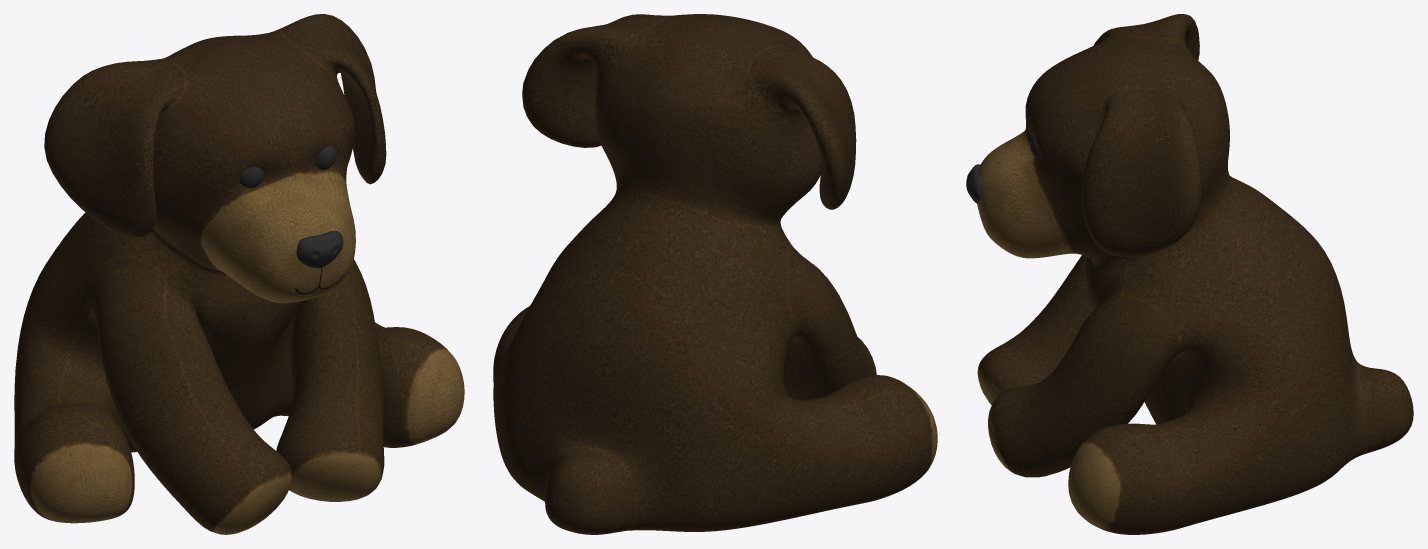
Rendered from osos_peluche.glb.
3 renders of one model, left to right at view 1: azimuth 30°, elevation 25°; view 2: azimuth 150°, elevation 25°; view 3: azimuth 270°, elevation 25°, orthographic. The views are drawn at different scales.
Parts seen in each view (by area): view 1: 11706_stuffed_animal_L2; view 2: 11706_stuffed_animal_L2; view 3: 11706_stuffed_animal_L2.
Part boxes in pixels (x1,y1,x2,y2): 11706_stuffed_animal_L2: [14, 14, 464, 534]; 11706_stuffed_animal_L2: [493, 14, 937, 534]; 11706_stuffed_animal_L2: [966, 14, 1413, 534].
Size of the model in its own units: 25.28 by 23.95 by 24.44.
2 materials, 1 textured.
